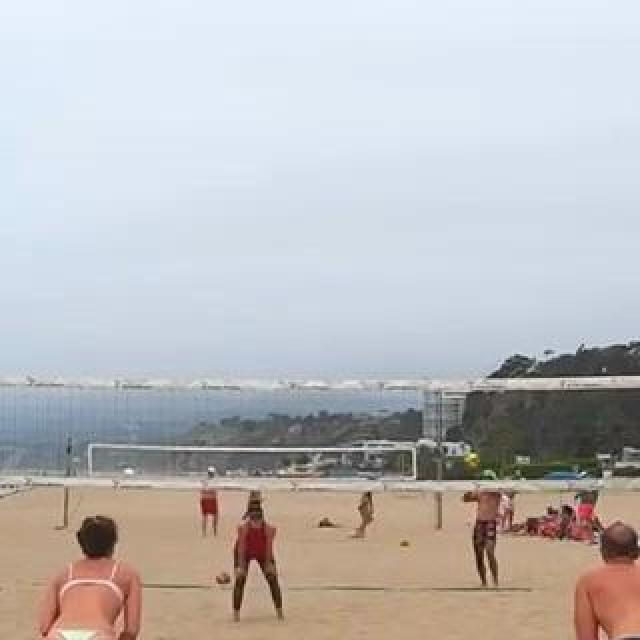volleyball: (465, 452, 481, 468), (216, 572, 232, 588), (400, 539, 410, 549)
